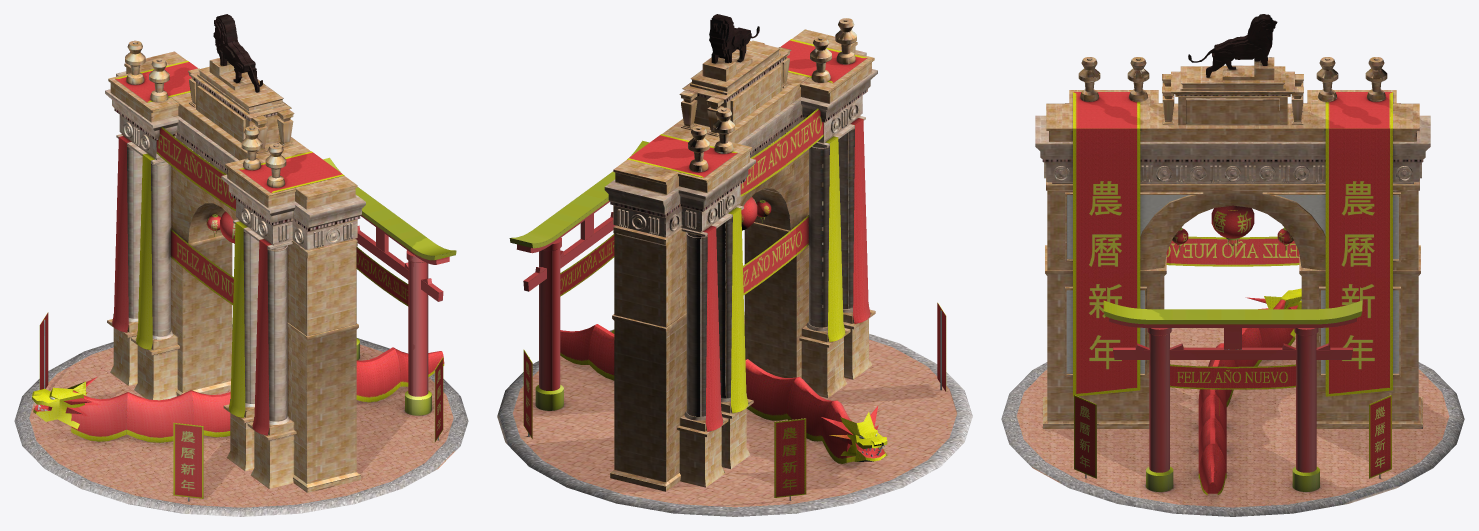
File: arcochina.glb
3 renders of one model, left to right at view 1: azimuth 30°, elevation 25°; view 2: azimuth 150°, elevation 25°; view 3: azimuth 270°, elevation 25°, orthographic. The views are drawn at different scales.
Parts seen in each view (by area): view 1: BaseArco, SkinArco, SkinPiso, Dragon, BaseLeon; view 2: BaseArco, SkinArco, SkinPiso, Dragon, BaseLeon; view 3: BaseArco, SkinArco, SkinPiso, Dragon, BaseLeon.
Part boxes in pixels (x1,y1,x2,y2): BaseArco: (14, 40, 468, 516); SkinArco: (112, 60, 344, 435); SkinPiso: (39, 157, 456, 501); Dragon: (32, 347, 444, 442); BaseLeon: (213, 14, 262, 92); BaseArco: (497, 18, 972, 516); SkinArco: (627, 39, 870, 431); SkinPiso: (509, 140, 946, 500); Dragon: (560, 324, 887, 463); BaseLeon: (709, 14, 759, 63); BaseArco: (1001, 57, 1464, 516); SkinArco: (1073, 92, 1392, 396); SkinPiso: (1074, 300, 1391, 491); Dragon: (1198, 288, 1301, 495); BaseLeon: (1188, 14, 1277, 77).
Size of the model in its own units: 824 by 789 by 824.
5 materials, 5 textured.
